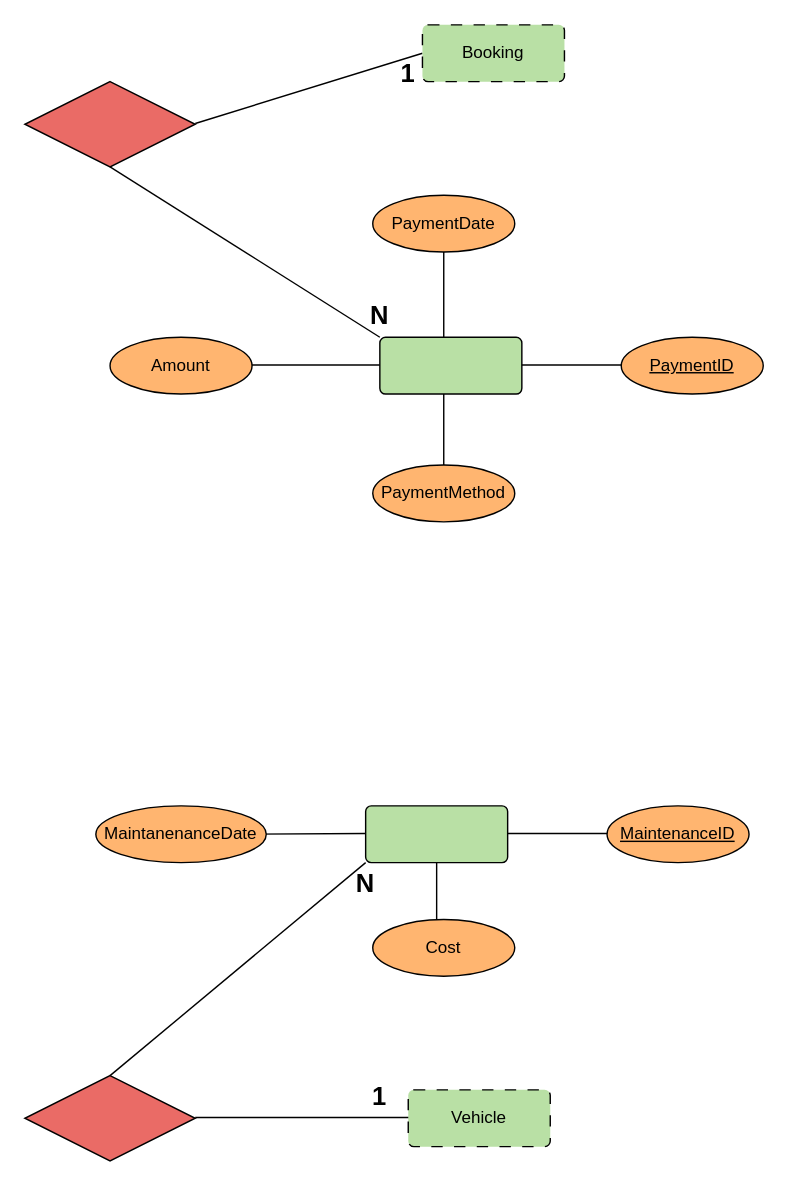
Image size: 788x1186. Some labels were removed from this diagram. The shapes that lost their labels are listed below. From the top down, each one's centre as x and y in pixels, then its label:
point 109,123: Pays
point 450,365: Payment
point 436,833: Maintenance
point 109,1117: Has
